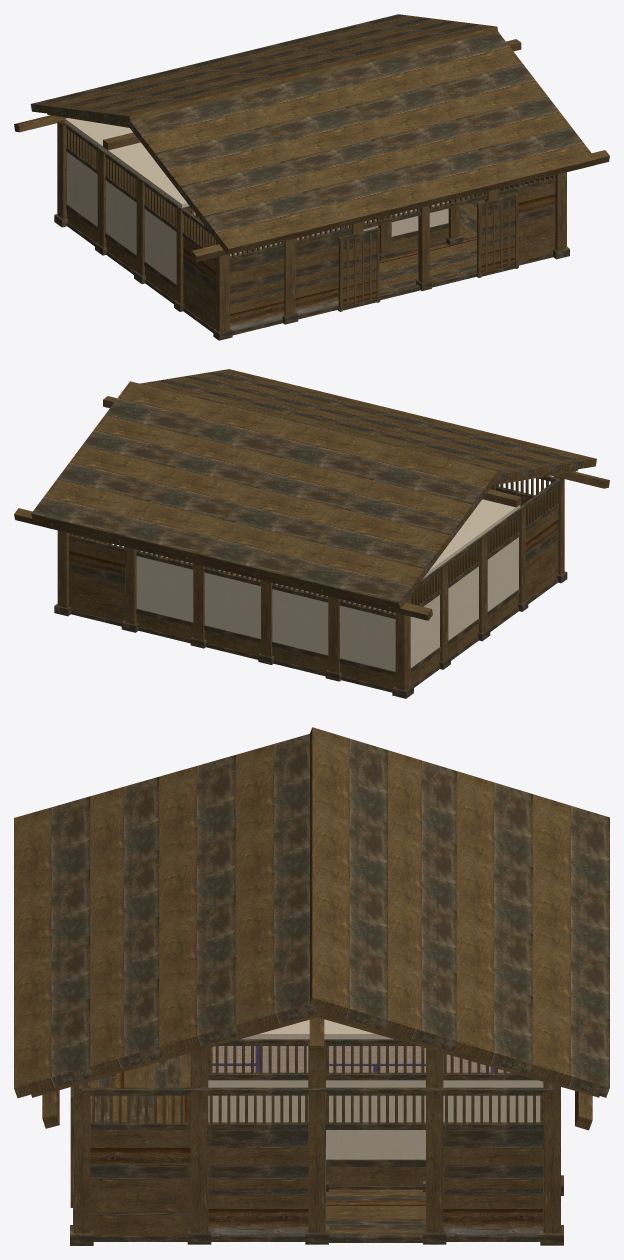
The model's file is JapaneseStyleRoom.fbx.
3 renders of one model, top to bottom at view 1: azimuth 30°, elevation 25°; view 2: azimuth 150°, elevation 25°; view 3: azimuth 270°, elevation 25°, orthographic. The views are drawn at different scales.
Parts seen in each view (by area): view 1: Roof, House, Corridor, Ceiling; view 2: Roof, House, Ceiling; view 3: Roof, House, Corridor, Tatami, Ceiling.
Boxes of the visible parts, <box> form: Roof: <box>14,14,609,262</box>; House: <box>54,119,569,340</box>; Corridor: <box>379,195,484,293</box>; Ceiling: <box>65,118,189,207</box>; Roof: <box>14,369,609,620</box>; House: <box>54,476,567,698</box>; Ceiling: <box>423,499,520,578</box>; Roof: <box>14,727,609,1130</box>; House: <box>70,1039,563,1245</box>; Corridor: <box>90,1053,425,1233</box>; Tatami: <box>212,1046,510,1072</box>; Ceiling: <box>241,1019,393,1039</box>.
Bounding box in the file's own units: 1222 × 477 × 1014.
